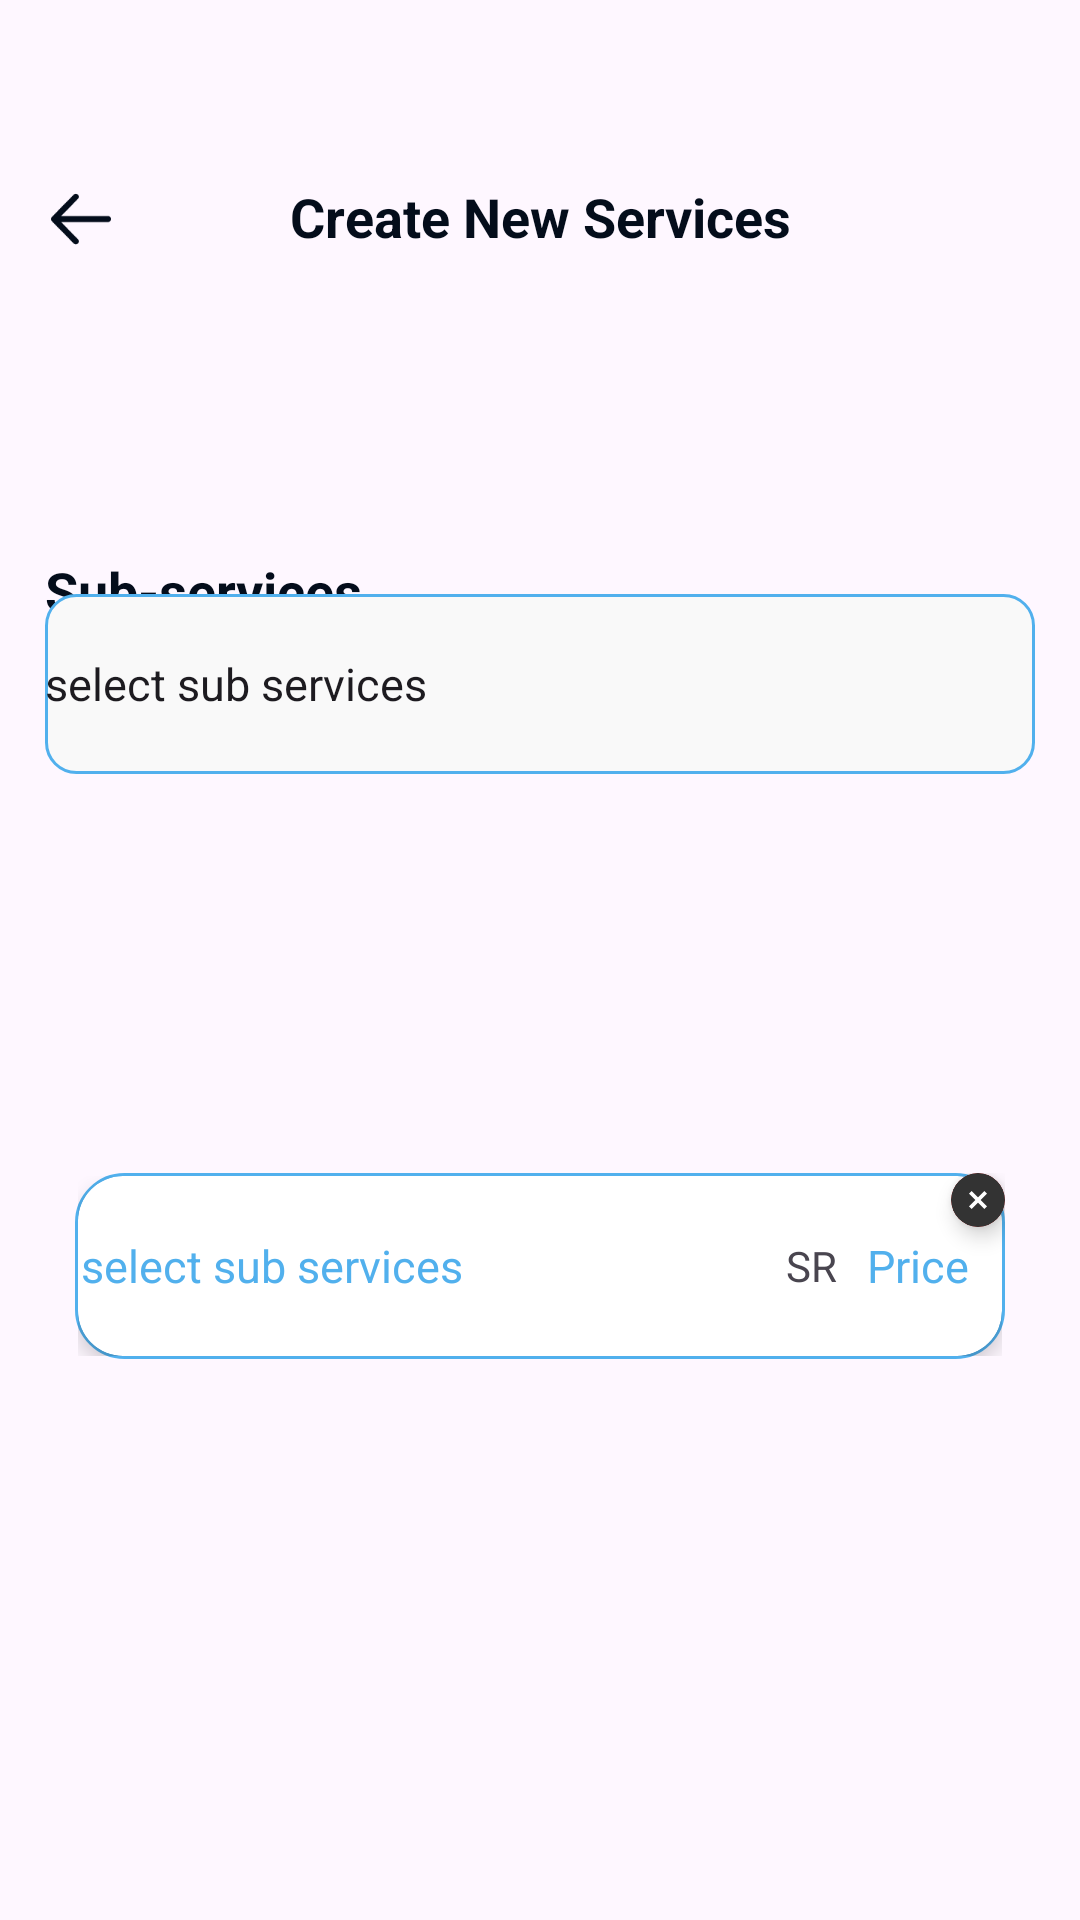

Named icons in this screenshot (1080px x 1920px) and their centers, [x,y]:
arrow left: [81,219]
cross: [978,1200]
